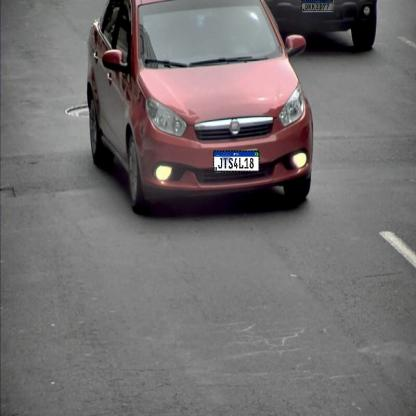PlacaM: (213, 150, 260, 172), (302, 0, 333, 11)
